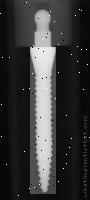3M ESPE: (26, 47, 56, 194)
